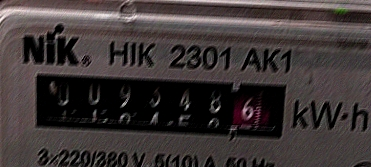0: (85, 79, 101, 103), (55, 78, 69, 104)
3: (146, 81, 161, 108)
4: (176, 82, 191, 110)
6: (237, 92, 256, 120)
8: (206, 85, 222, 114)
9: (115, 81, 131, 107)
screen: (22, 64, 294, 146)
